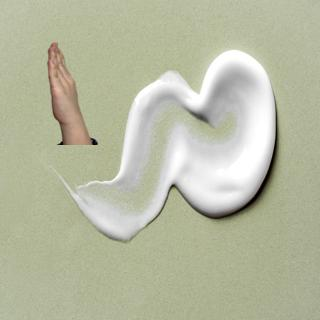RIGHT: (43, 39, 87, 126)
